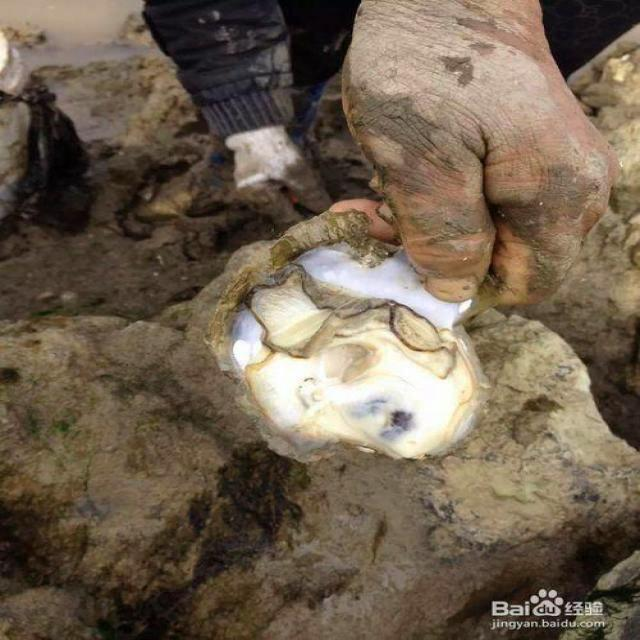Oyster-Open: (209, 212, 489, 463)
